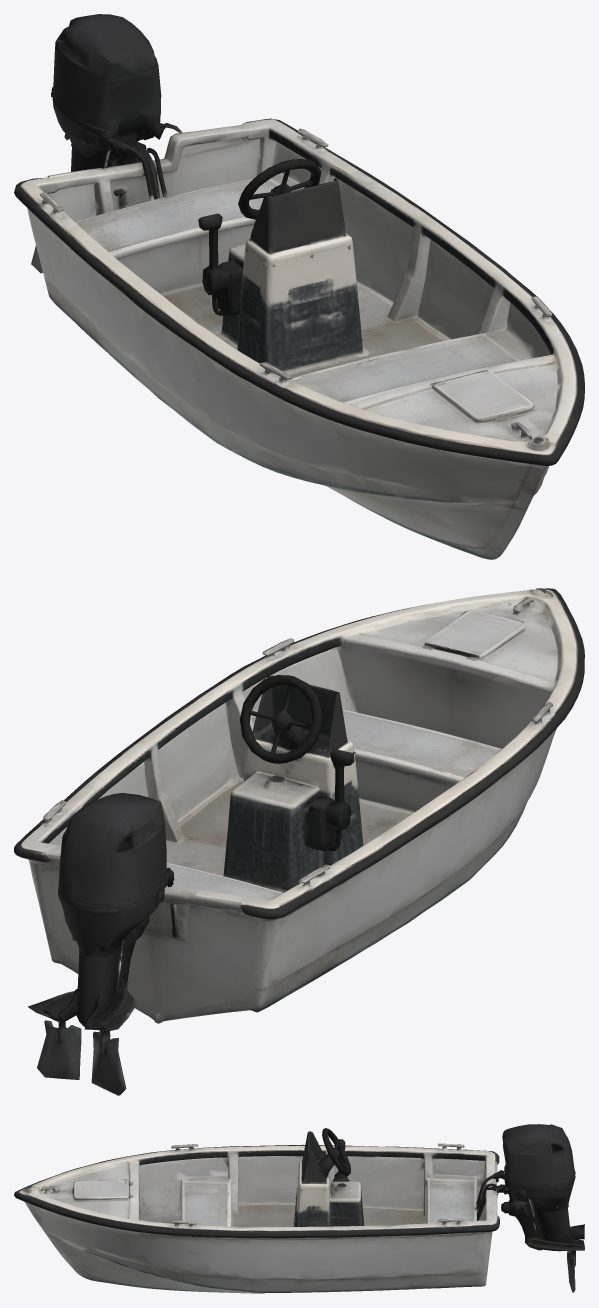
The model's file is boat.glb.
3 renders of one model, top to bottom at view 1: azimuth 30°, elevation 25°; view 2: azimuth 150°, elevation 25°; view 3: azimuth 270°, elevation 25°, orthographic. The views are drawn at different scales.
Visible parts, largest first — view 1: tripo_node_1952d575-f4d9-44bb-91cf-04e85cc8c10e; view 2: tripo_node_1952d575-f4d9-44bb-91cf-04e85cc8c10e; view 3: tripo_node_1952d575-f4d9-44bb-91cf-04e85cc8c10e.
Part boxes in pixels (left/top/right/bottom): tripo_node_1952d575-f4d9-44bb-91cf-04e85cc8c10e: left=14, top=14, right=584, bottom=559; tripo_node_1952d575-f4d9-44bb-91cf-04e85cc8c10e: left=14, top=588, right=584, bottom=1095; tripo_node_1952d575-f4d9-44bb-91cf-04e85cc8c10e: left=14, top=1124, right=584, bottom=1293.
Size of the model in its own units: 0.3635 by 0.2912 by 0.98.
Materials: 1 (1 with a texture image).
